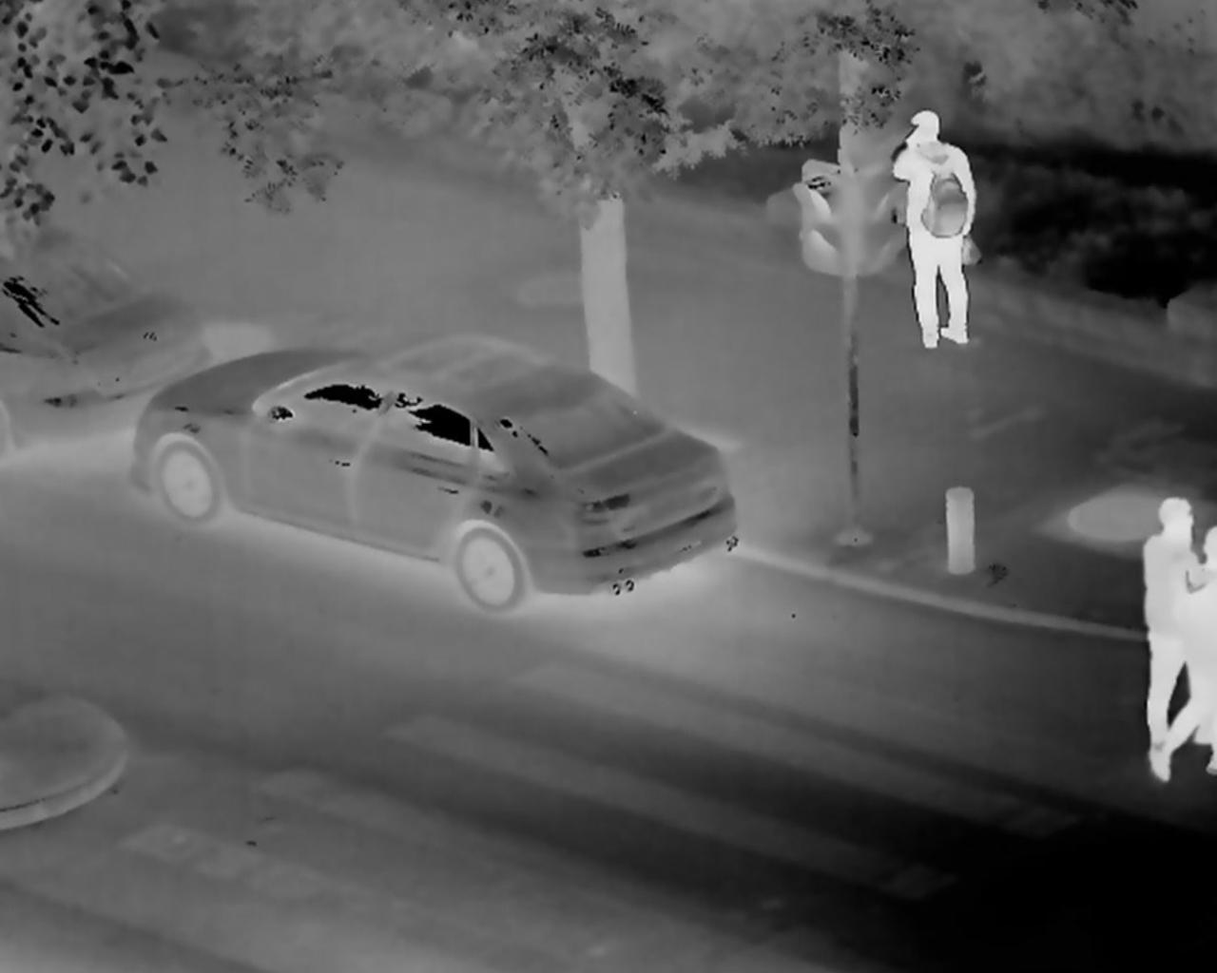person: (885, 112, 976, 344), (1143, 497, 1203, 783), (1185, 530, 1217, 782)
